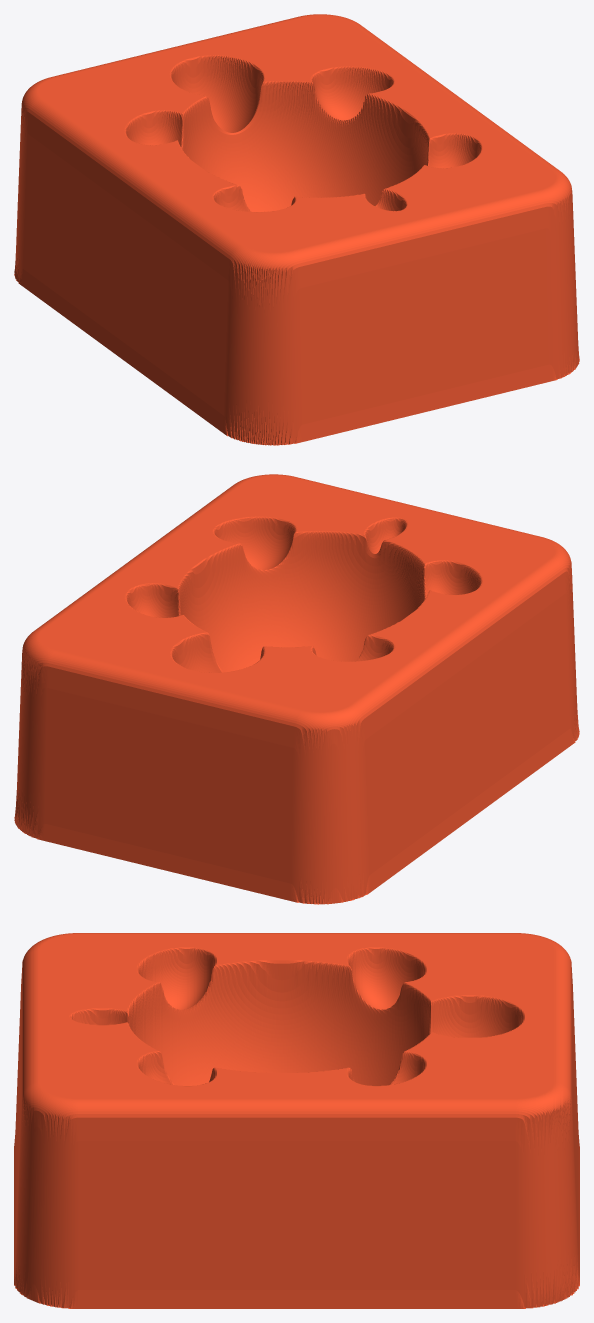
File: mold.glb
The picture shows the model from 3 angles, top to bottom: view 1: azimuth 30°, elevation 25°; view 2: azimuth 150°, elevation 25°; view 3: azimuth 270°, elevation 25°; orthographic projection. The views are drawn at different scales.
Visible parts, largest first — view 1: geometry_0; view 2: geometry_0; view 3: geometry_0.
Boxes of the visible parts, left/top/right/bottom form: geometry_0: left=14, top=14, right=579, bottom=445; geometry_0: left=14, top=474, right=579, bottom=904; geometry_0: left=14, top=933, right=579, bottom=1308.
Size of the model in its own units: 0.062 by 0.031 by 0.0798.
